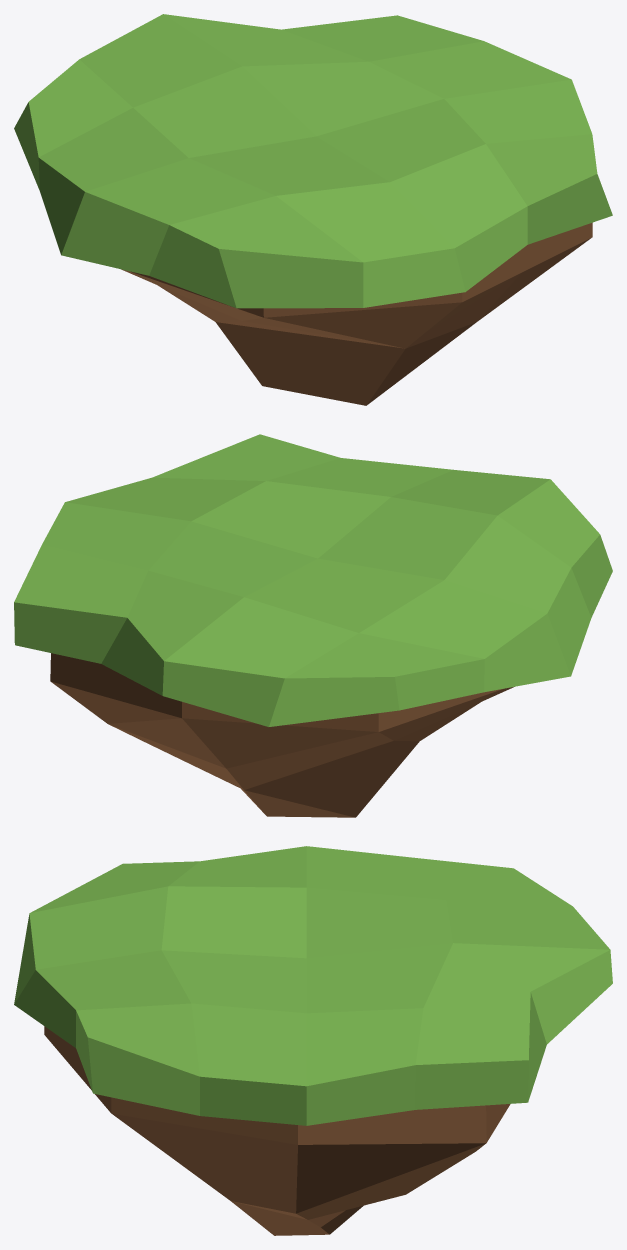
Rendered from plataforma 002 - basica.fbx.
3 renders of one model, top to bottom at view 1: azimuth 30°, elevation 25°; view 2: azimuth 150°, elevation 25°; view 3: azimuth 270°, elevation 25°, orthographic.
Visible parts, largest first — view 1: Cubo.001, Cubo; view 2: Cubo.001, Cubo; view 3: Cubo.001, Cubo.
Boxes of the visible parts, x1,y1,x2,y2 form: Cubo.001: (14, 14, 612, 308); Cubo: (121, 222, 592, 405); Cubo.001: (14, 434, 612, 726); Cubo: (50, 653, 514, 817); Cubo.001: (14, 846, 612, 1125); Cubo: (44, 1026, 510, 1235).
Bounding box in the file's own units: 310 × 165 × 320.
